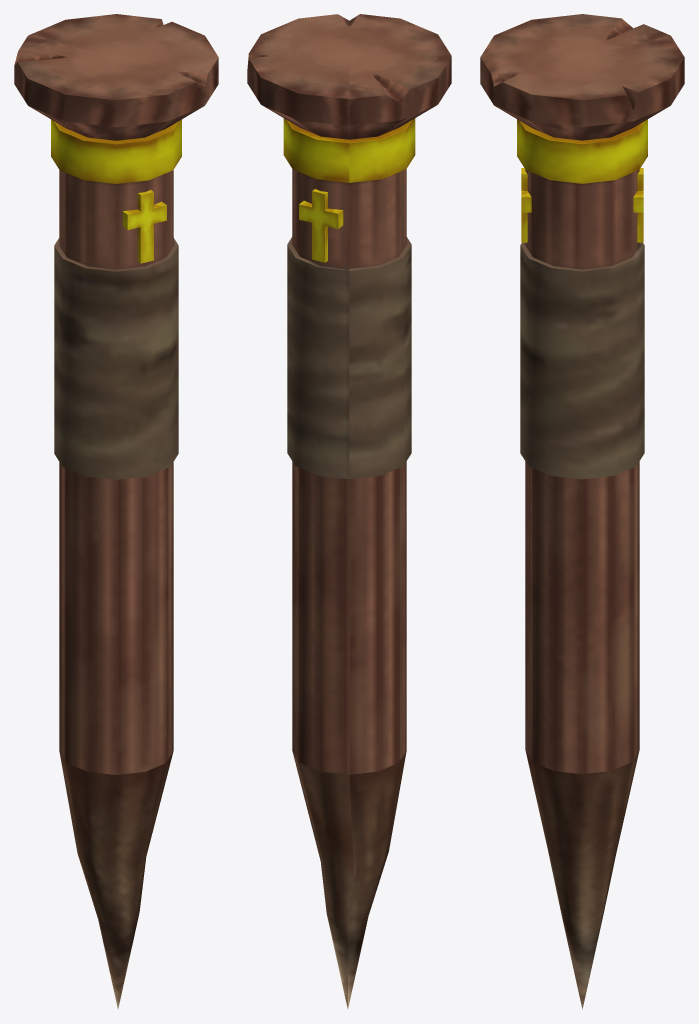
File: estaca.glb
3 renders of one model, left to right at view 1: azimuth 30°, elevation 25°; view 2: azimuth 150°, elevation 25°; view 3: azimuth 270°, elevation 25°, orthographic.
Visible parts, largest first — view 1: WoodenStake_Mesh; view 2: WoodenStake_Mesh; view 3: WoodenStake_Mesh.
Boxes of the visible parts, bbox=[...] form: WoodenStake_Mesh: bbox=[14, 14, 218, 1009]; WoodenStake_Mesh: bbox=[247, 14, 451, 1009]; WoodenStake_Mesh: bbox=[480, 14, 684, 1009].
Bounding box in the file's own units: 0.0125 × 0.0641 × 0.0125.
1 material, 1 textured.
